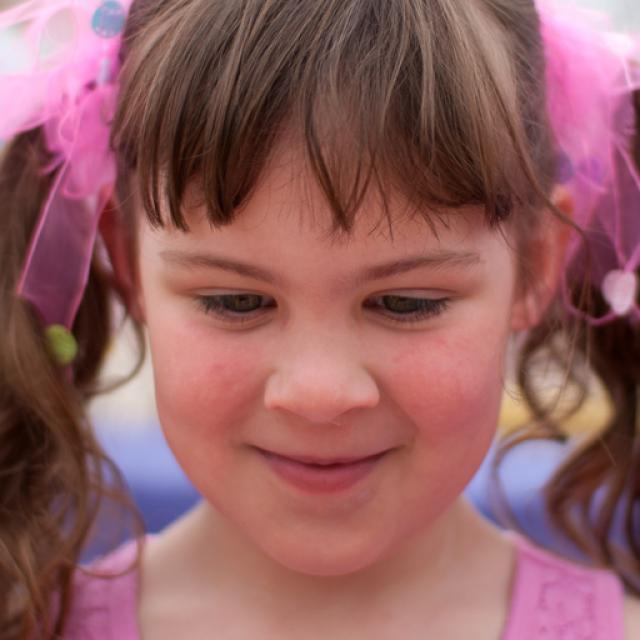disgust: (142, 127, 508, 572)
